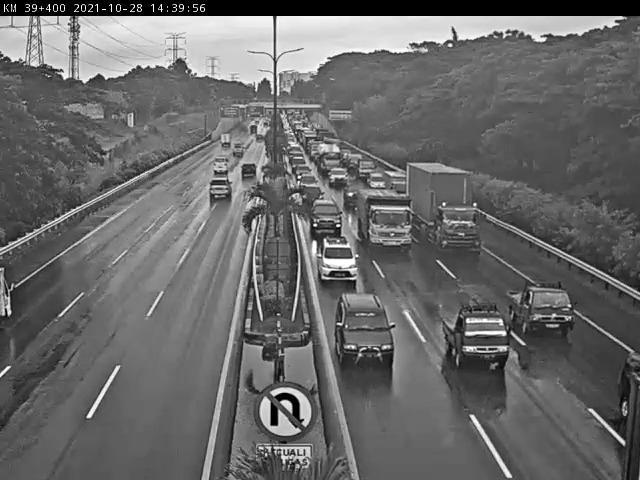big truck: (406, 163, 480, 253), (358, 188, 412, 251)
car: (336, 293, 395, 367), (445, 307, 510, 369), (507, 281, 573, 330), (316, 234, 359, 279), (310, 198, 344, 235), (209, 177, 235, 200), (344, 180, 366, 203), (302, 184, 326, 205), (385, 170, 406, 193), (355, 160, 377, 179), (329, 167, 348, 186), (211, 157, 231, 175), (366, 172, 387, 189), (238, 162, 258, 178)
